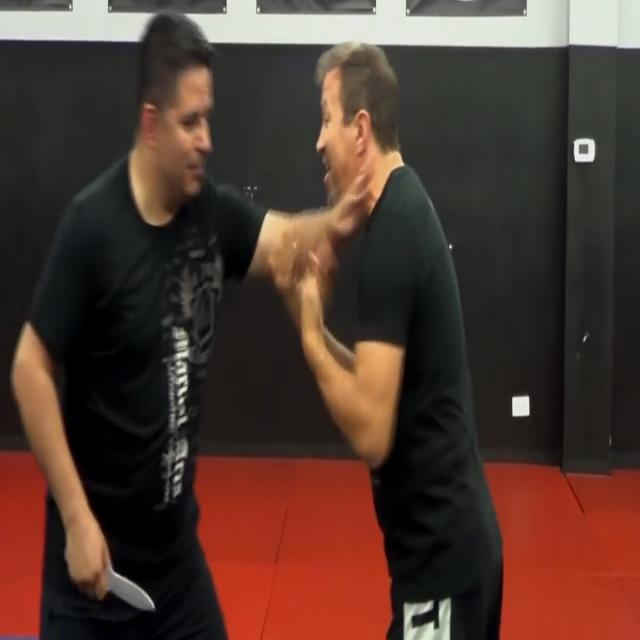knife: (106, 569, 160, 616)
